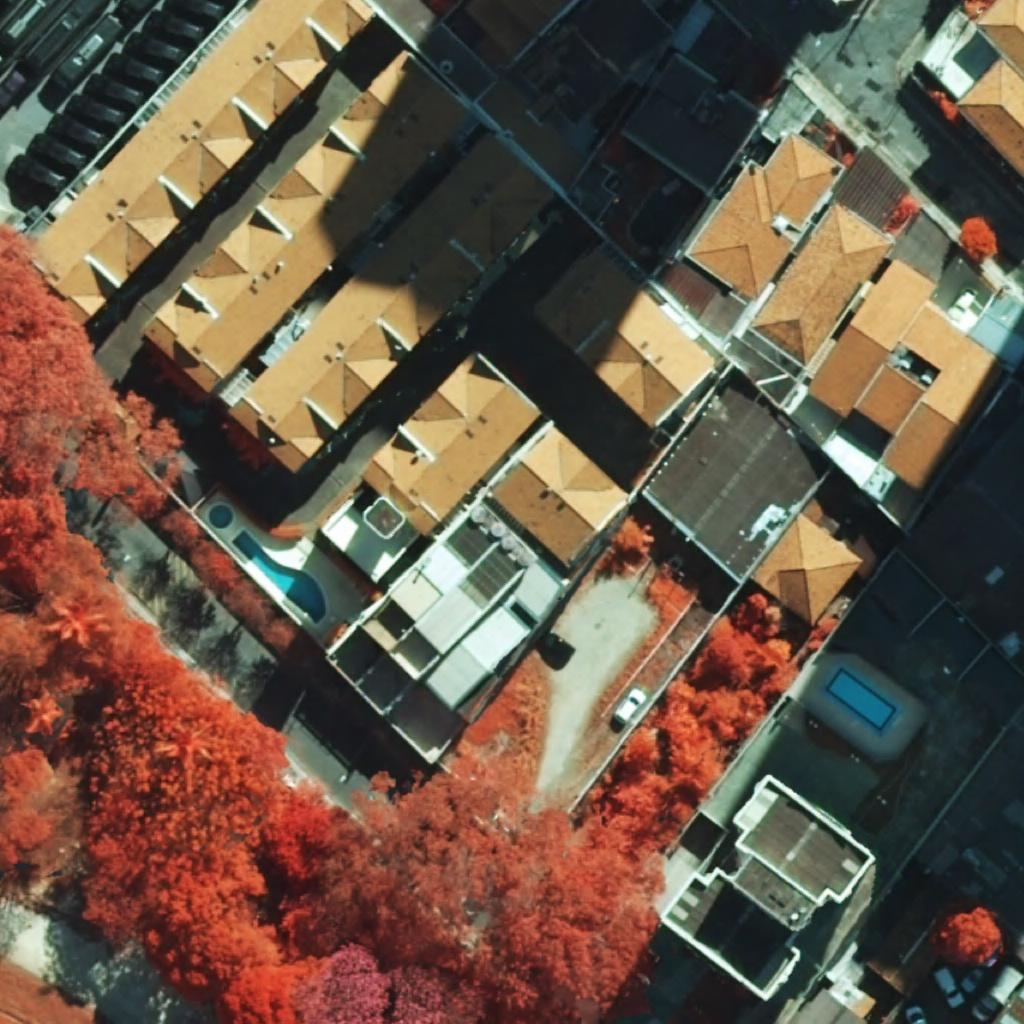pool: (232, 530, 325, 624), (825, 667, 897, 732), (209, 505, 232, 529)
